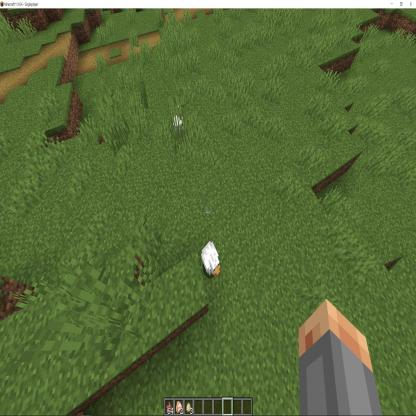minecraft-pigs: (200, 239, 223, 285), (172, 103, 186, 141)
